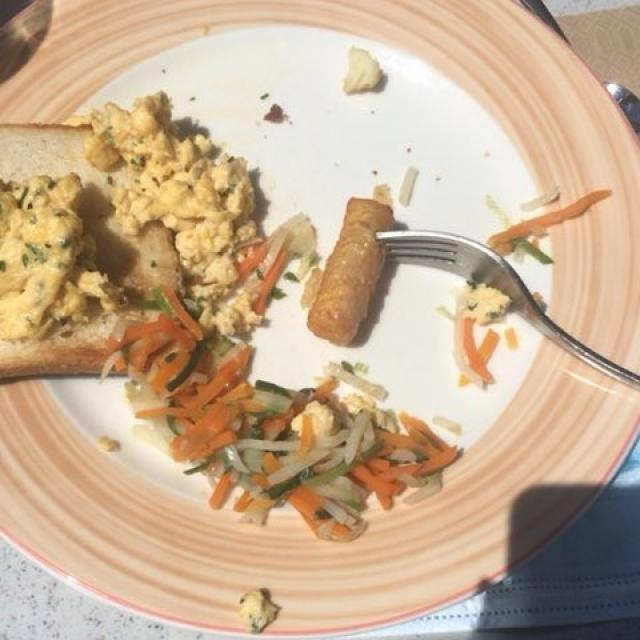bread: (4, 120, 177, 374)
eggs: (7, 94, 306, 357)
mixed-vegetables: (110, 301, 470, 539)
